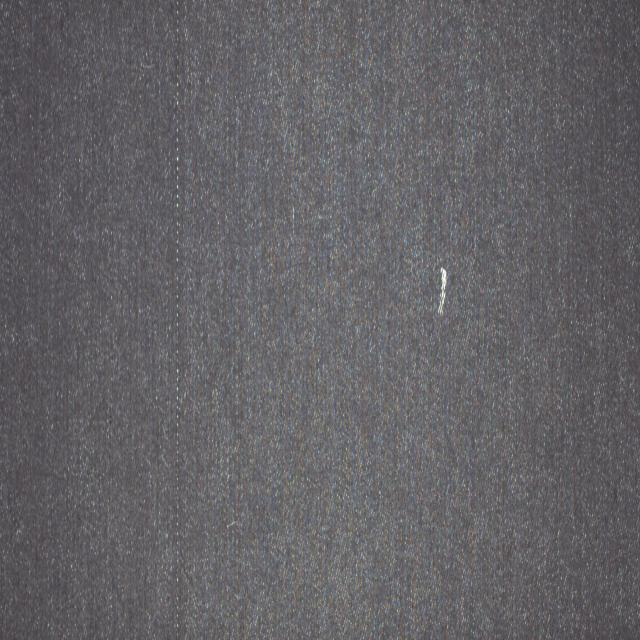pulled_or_thick_thread: (174, 4, 181, 632)
